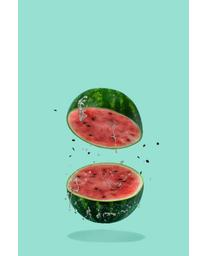watermelon: (64, 87, 147, 151), (66, 162, 145, 226)
